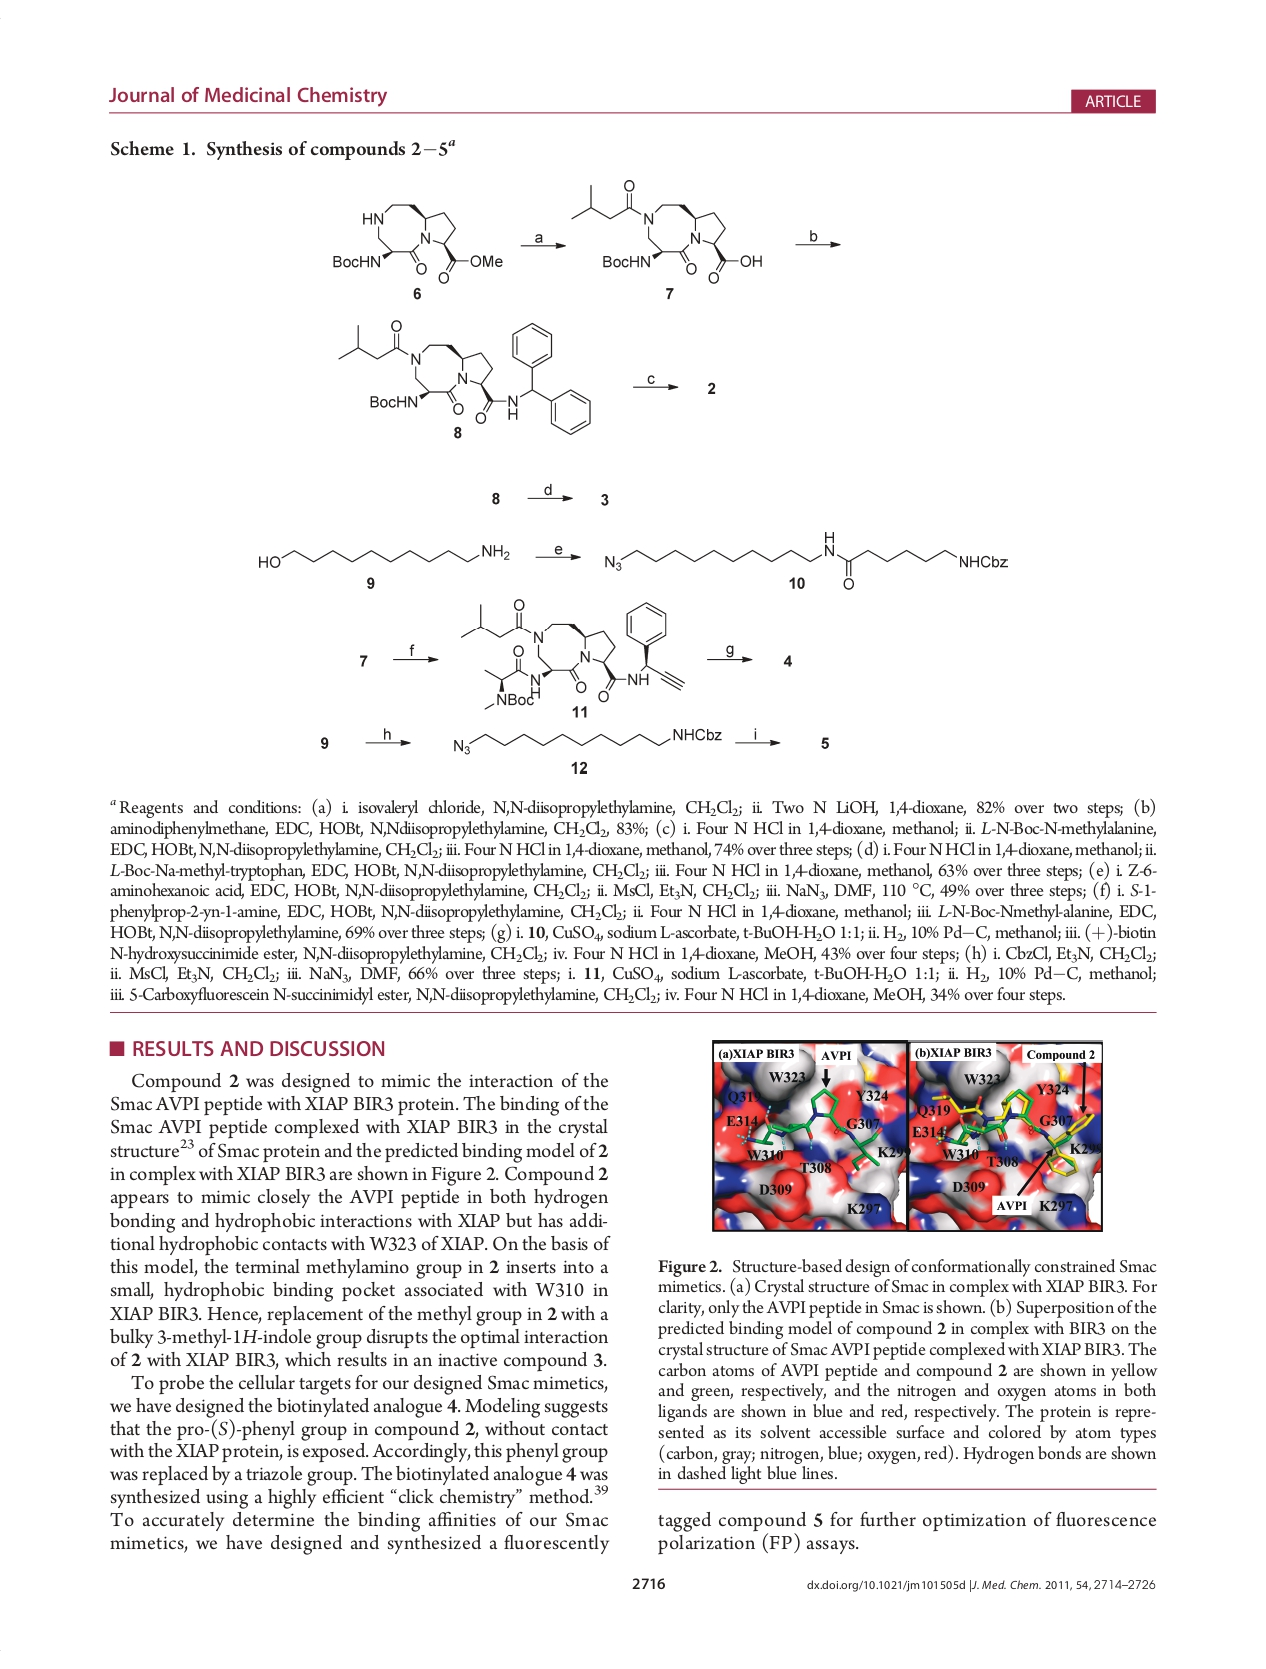exist_molecular: (336, 313, 596, 438), (456, 596, 688, 713), (598, 529, 1011, 593), (567, 176, 765, 285), (328, 201, 504, 286), (251, 539, 513, 573), (445, 723, 723, 753)
